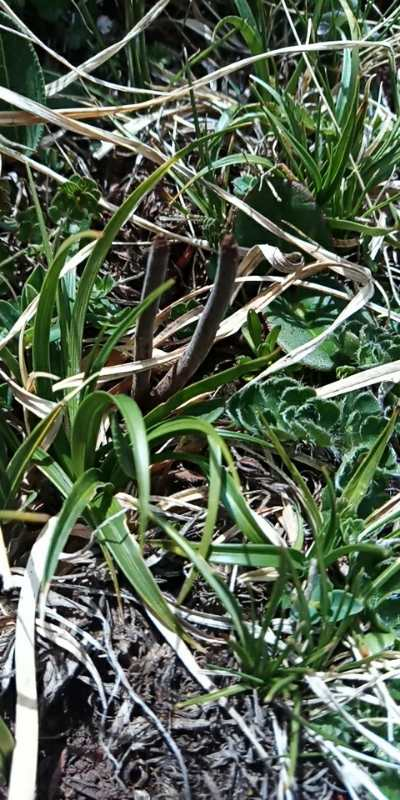Chongcao: (151, 234, 240, 404), (130, 231, 170, 403)
